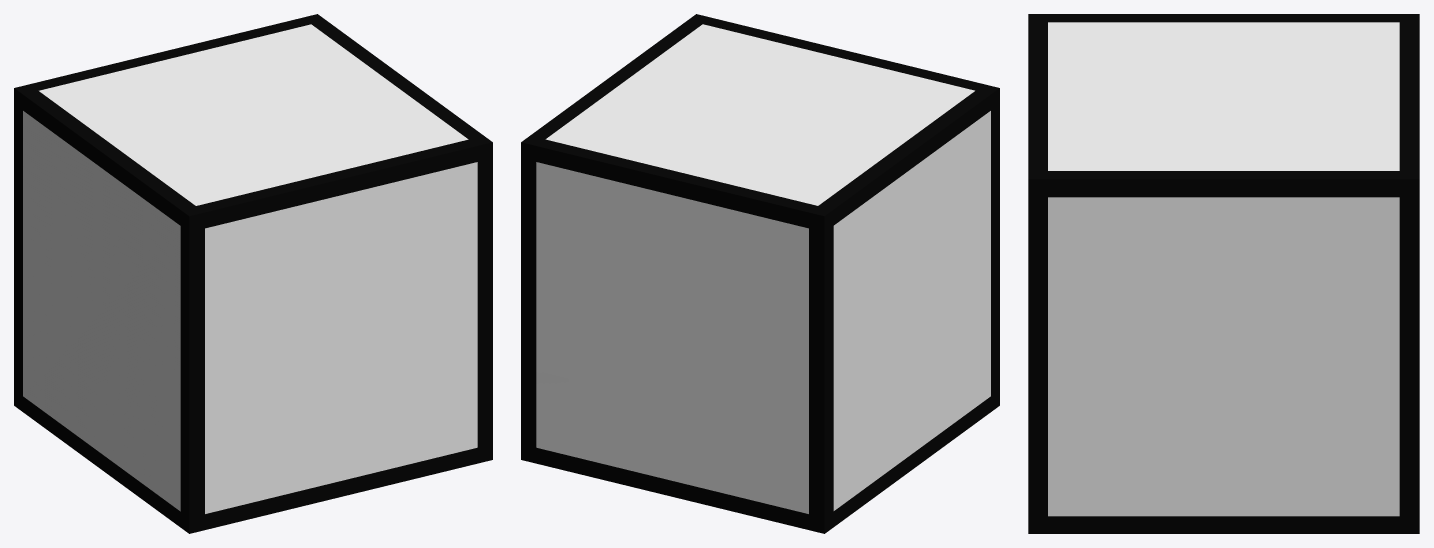
Rendered from player_body.obj.
3 views of the same model, side by side, from view 1: azimuth 30°, elevation 25°; view 2: azimuth 150°, elevation 25°; view 3: azimuth 270°, elevation 25° (orthographic). The views are drawn at different scales.
Visible parts, largest first — view 1: head_Cube; view 2: head_Cube; view 3: head_Cube.
Part boxes in pixels (box(x1,y1,x2,y2)): head_Cube: box(14, 14, 492, 533); head_Cube: box(521, 14, 999, 533); head_Cube: box(1028, 14, 1419, 533).
Bounding box in the file's own units: 2 × 2 × 2.
Materials: 1 (1 with a texture image).
